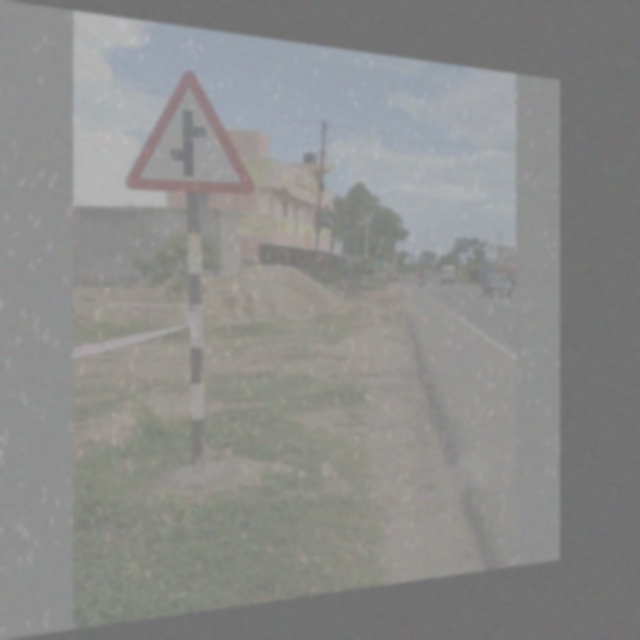Staggered_Intersection: (128, 53, 258, 204)
